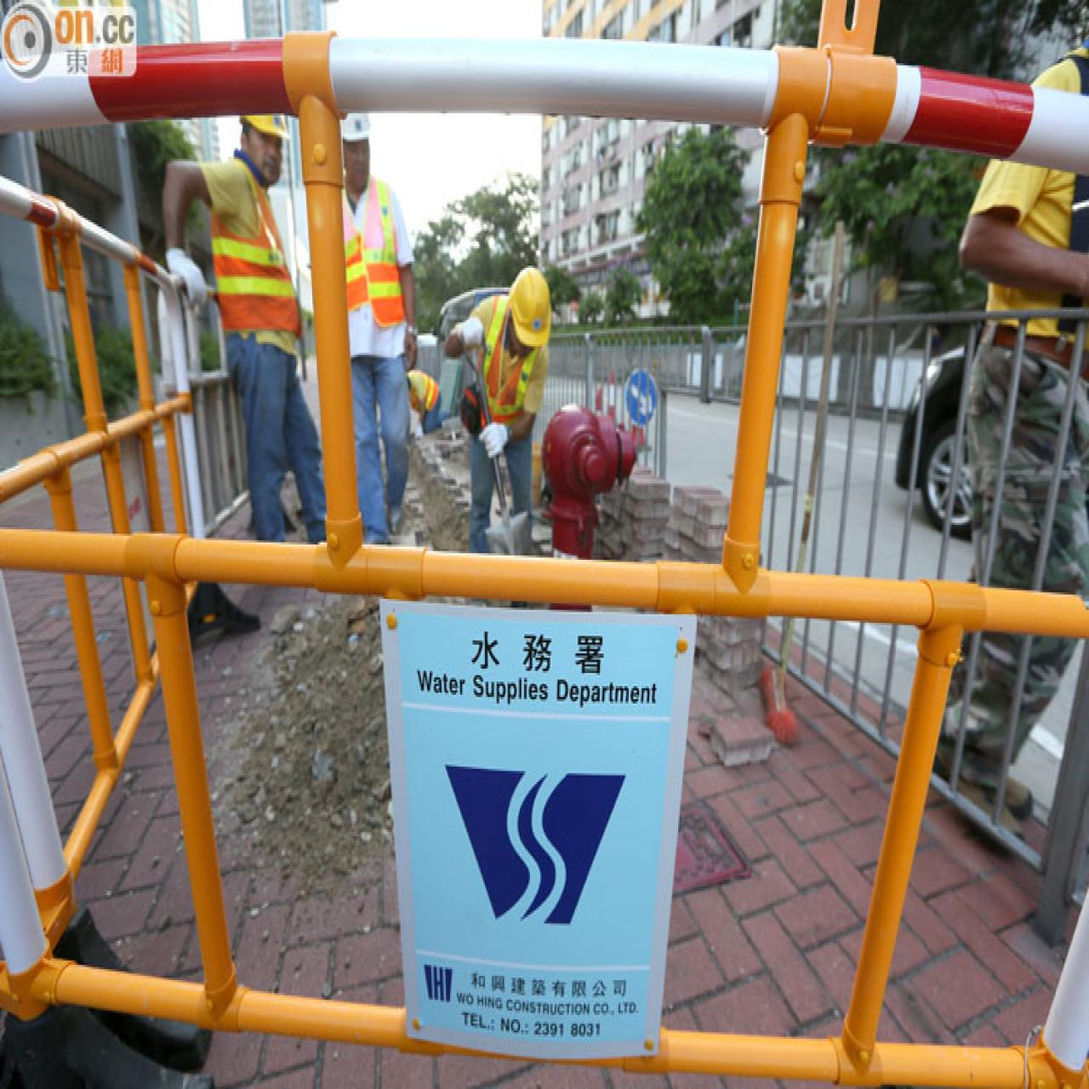NO_Safety_Vest: (996, 26, 1089, 368)
Person: (932, 2, 1089, 812), (159, 100, 345, 535), (318, 86, 432, 519), (455, 223, 548, 547)
Safety_Vest: (201, 162, 295, 345), (343, 189, 404, 349), (478, 296, 532, 423)
